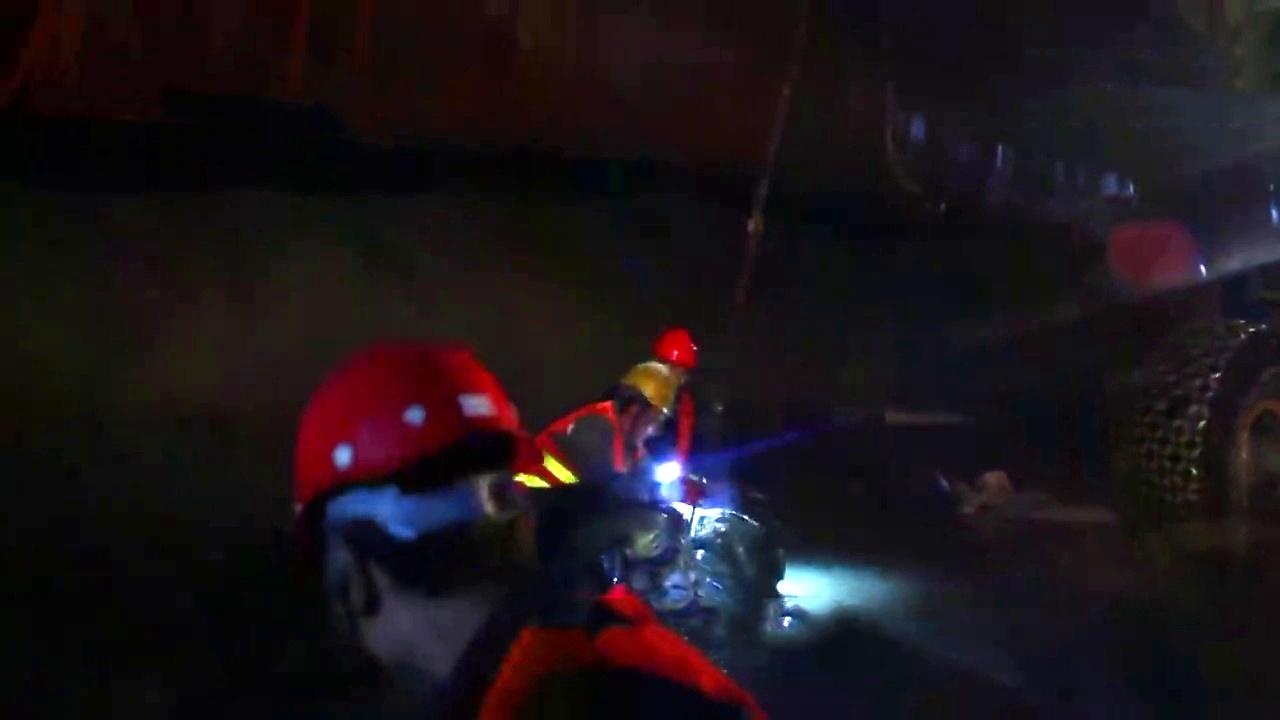helmet: (289, 329, 543, 675), (615, 358, 681, 446), (652, 324, 699, 387)
